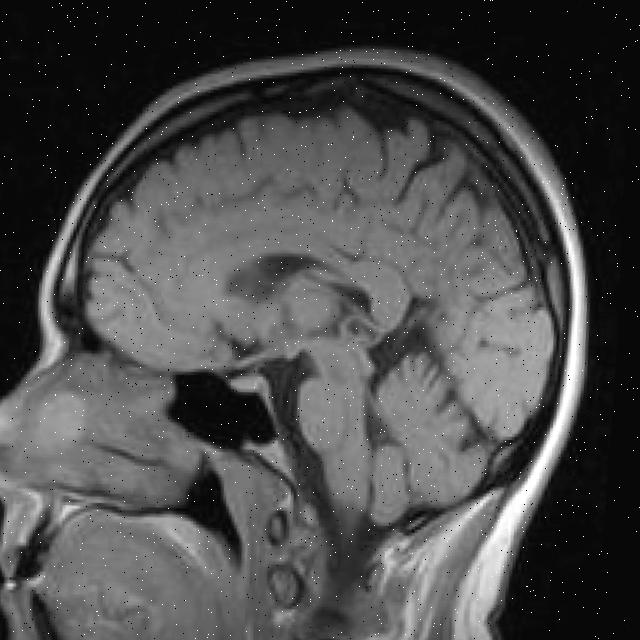NoTumor: (16, 19, 616, 549)
